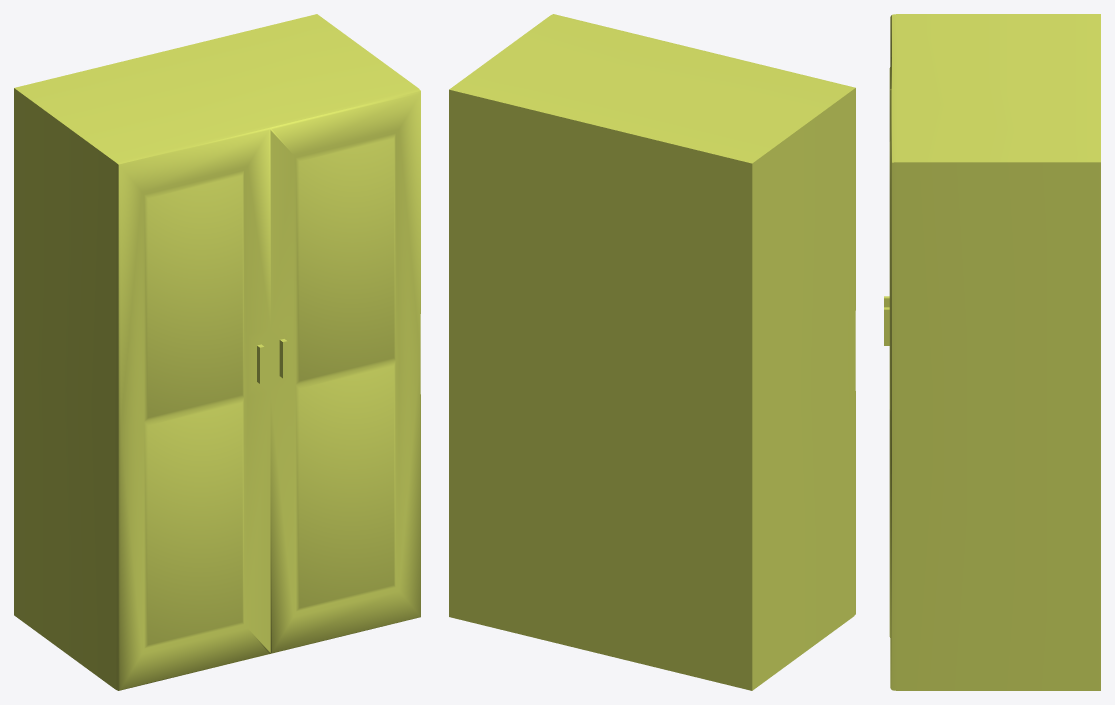
File: Wardrobe 1.FBX
3 renders of one model, left to right at view 1: azimuth 30°, elevation 25°; view 2: azimuth 150°, elevation 25°; view 3: azimuth 270°, elevation 25°, orthographic.
Parts seen in each view (by area): view 1: Box004; view 2: Box004; view 3: Box004.
Part boxes in pixels (x1,y1,x2,y2): Box004: (14, 14, 420, 690); Box004: (449, 14, 855, 690); Box004: (884, 14, 1100, 690).
Size of the model in its own units: 28.41 by 47.23 by 17.55.
